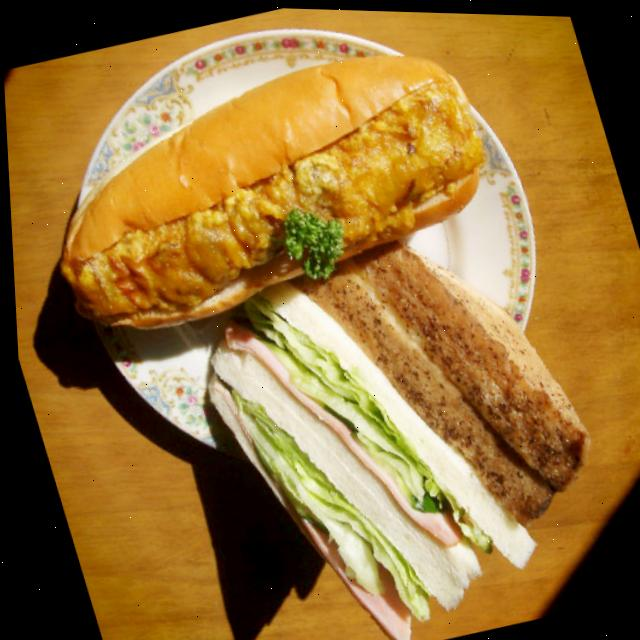三明治: (2, 9, 555, 390), (167, 233, 551, 640)
